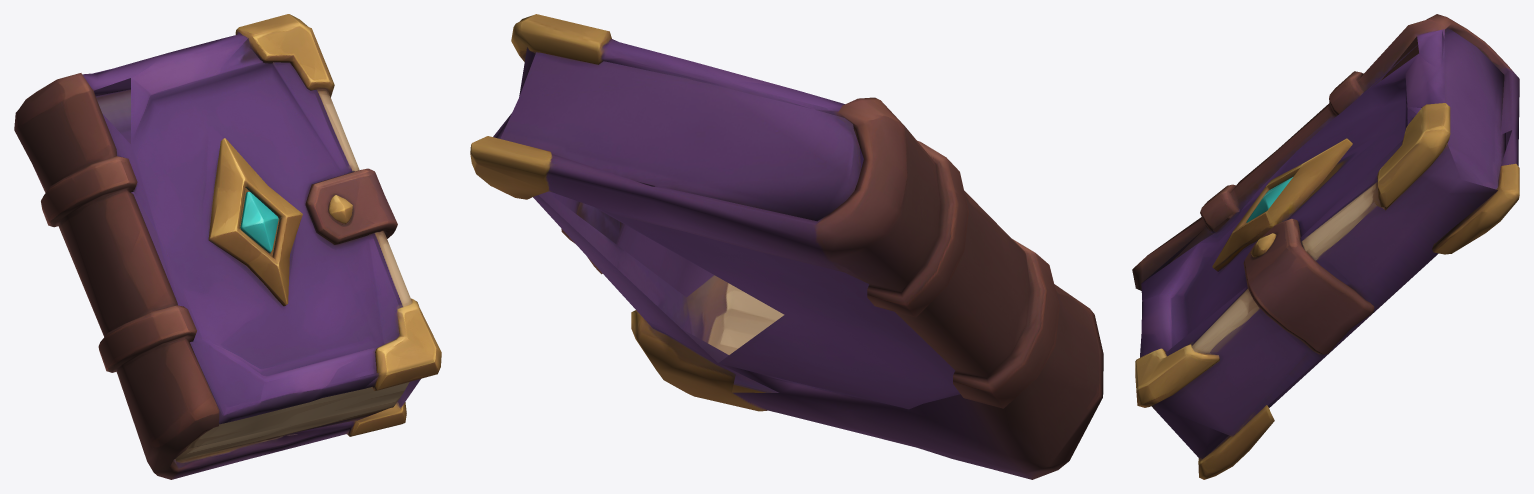
File: elf-wizard-spellbook-v1.fbx
3 renders of one model, left to right at view 1: azimuth 30°, elevation 25°; view 2: azimuth 150°, elevation 25°; view 3: azimuth 270°, elevation 25°, orthographic. The views are drawn at different scales.
Parts seen in each view (by area): view 1: d31c9e22_fe63_48c6_9d49_7f177d6d6466; view 2: d31c9e22_fe63_48c6_9d49_7f177d6d6466; view 3: d31c9e22_fe63_48c6_9d49_7f177d6d6466.
Part boxes in pixels (x1,y1,x2,y2): d31c9e22_fe63_48c6_9d49_7f177d6d6466: (14, 14, 441, 479); d31c9e22_fe63_48c6_9d49_7f177d6d6466: (470, 14, 1103, 479); d31c9e22_fe63_48c6_9d49_7f177d6d6466: (1132, 14, 1519, 479).
Bounding box in the file's own units: 0.9067 × 0.9995 × 0.9858.
Materials: 1 (1 with a texture image).
